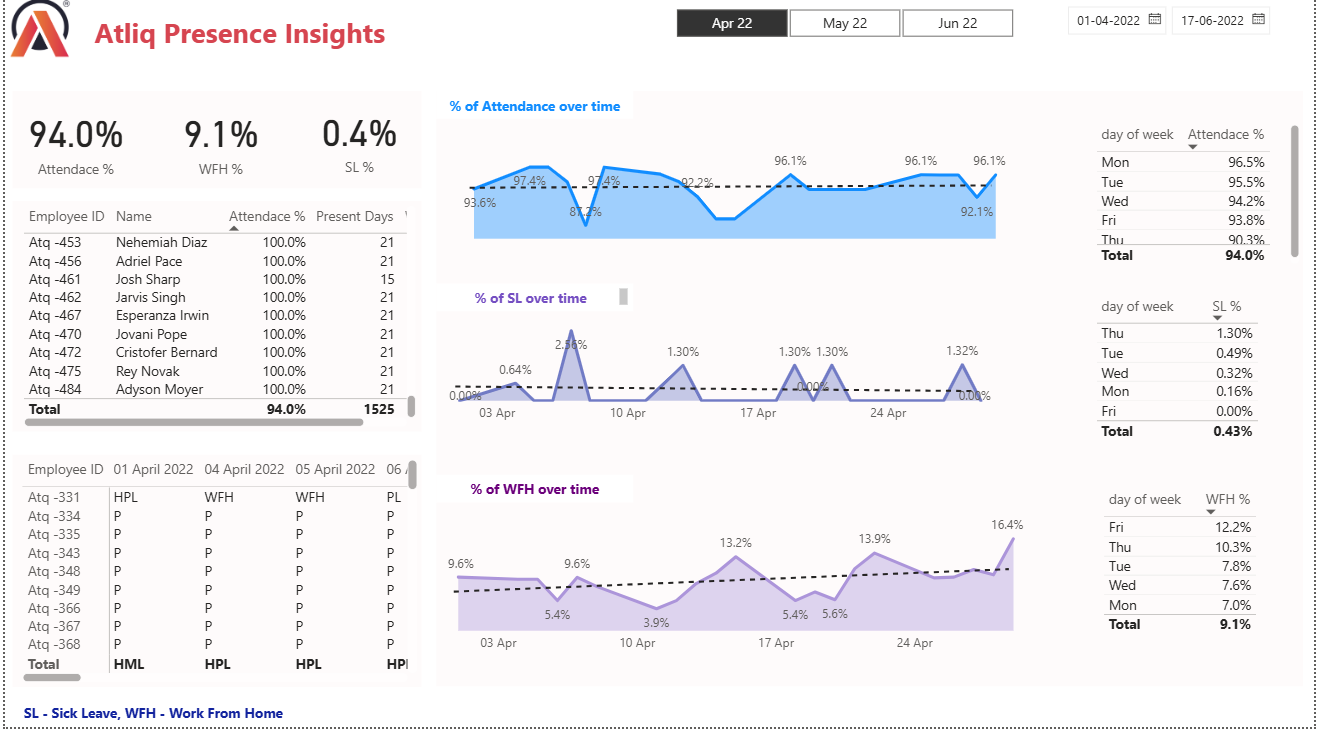

This screenshot's page, from the dashboard's own definition file:
{"tool":"powerbi","page":{"name":"Presence Insights","canvas":[1280,720],"ordinal":0},"visuals":[{"type":"textbox","box":[7.8,205.6,399.9,225.5],"z":0},{"type":"textbox","box":[7.8,453.3,399.8,227.6],"z":1000},{"type":"textbox","box":[422.3,97.9,848.1,582.3],"z":2000},{"type":"textbox","box":[7.8,98,399.9,95.4],"z":3000},{"type":"tableEx","fields":{"Values":["Final Data.Employee ID","Measures (2).Attendace %","Measures (2).Present Days","Measures (2).WFH %"]},"box":[12.6,205.2,394.9,225.7],"z":4000},{"type":"slicer","fields":{"Values":["Final Data.Date"]},"box":[1027.3,5.2,252.7,46.3],"z":5000},{"type":"slicer","fields":{"Values":["Final Data.MMM YY"]},"box":[630.4,10.5,379.5,35.8],"z":6000},{"type":"areaChart","fields":{"Category":["Final Data.MMM YY","Final Data.Date"],"Y":["Measures (2).WFH %"]},"box":[420.7,502.3,589,153.5],"z":7000},{"type":"areaChart","fields":{"Category":["Final Data.WeekNo","Final Data.Date"],"Y":["Measures (2).Attendace %"]},"box":[444.1,144.9,540.4,103.2],"z":8000},{"type":"card","fields":{"Values":["Measures (2).Attendace %"]},"box":[7.8,98,124,96.3],"z":9000},{"type":"card","fields":{"Values":["Measures (2).WFH %"]},"box":[141.4,98,138.8,96.3],"z":10000},{"type":"areaChart","fields":{"Category":["Final Data.MMM YY","Final Data.Date"],"Y":["Measures (2).SL %"]},"box":[422.5,307.1,556,124],"z":11000},{"type":"image","box":[0,0,70,71],"z":12000},{"type":"card","fields":{"Values":["Measures (2).SL %"]},"box":[286.3,97.2,121.4,96.3],"z":13000},{"type":"textbox","box":[70.3,0,320.1,71.1],"z":14000},{"type":"textbox","box":[422.4,98.2,192.5,27.5],"z":15000},{"type":"textbox","box":[422.5,286.3,192.6,26.9],"z":16000},{"type":"textbox","box":[422.1,473.7,192.6,27.2],"z":17000},{"type":"pivotTable","fields":{"Rows":["Final Data.Employee ID"],"Columns":["Final Data.Date"],"Values":["Min(Final Data.Value)"]},"box":[11.7,453.3,395.9,227.6],"z":18000},{"type":"textbox","box":[13.6,691.6,289.8,28.2],"z":19000},{"type":"tableEx","fields":{"Values":["Final Data.day of week","Measures (2).Attendace %"]},"box":[1060.9,125.8,209.9,145.7],"z":20000},{"type":"tableEx","fields":{"Values":["Final Data.day of week","Measures (2).SL %"]},"box":[1060.9,294.1,191.7,167.4],"z":21000},{"type":"tableEx","fields":{"Values":["Final Data.day of week","Measures (2).WFH %"]},"box":[1068.7,483.2,170,167.4],"z":22000}]}

Visuals, with their boxes in screenshot pixels (x1, y1, x2, y2), scaled from the page's 1280x720 canvas onto the 1322x731 screenshot:
textbox: bbox=[8, 209, 421, 438]
textbox: bbox=[8, 460, 421, 691]
textbox: bbox=[436, 99, 1312, 691]
textbox: bbox=[8, 99, 421, 196]
tableEx - Final Data.Employee ID x Measures (2).Attendace %: bbox=[13, 208, 421, 437]
slicer - Final Data.Date: bbox=[1061, 5, 1321, 52]
slicer - Final Data.MMM YY: bbox=[651, 11, 1043, 47]
areaChart - Final Data.MMM YY x Final Data.Date: bbox=[435, 510, 1043, 666]
areaChart - Final Data.WeekNo x Final Data.Date: bbox=[459, 147, 1017, 252]
card - Measures (2).Attendace %: bbox=[8, 99, 136, 197]
card - Measures (2).WFH %: bbox=[146, 99, 289, 197]
areaChart - Final Data.MMM YY x Final Data.Date: bbox=[436, 312, 1011, 438]
image: bbox=[0, 0, 72, 72]
card - Measures (2).SL %: bbox=[296, 99, 421, 196]
textbox: bbox=[73, 0, 403, 72]
textbox: bbox=[436, 100, 635, 128]
textbox: bbox=[436, 291, 635, 318]
textbox: bbox=[436, 481, 635, 509]
pivotTable - Final Data.Employee ID x Final Data.Date: bbox=[12, 460, 421, 691]
textbox: bbox=[14, 702, 313, 730]
tableEx - Final Data.day of week x Measures (2).Attendace %: bbox=[1096, 128, 1312, 276]
tableEx - Final Data.day of week x Measures (2).SL %: bbox=[1096, 299, 1294, 469]
tableEx - Final Data.day of week x Measures (2).WFH %: bbox=[1104, 491, 1279, 661]
